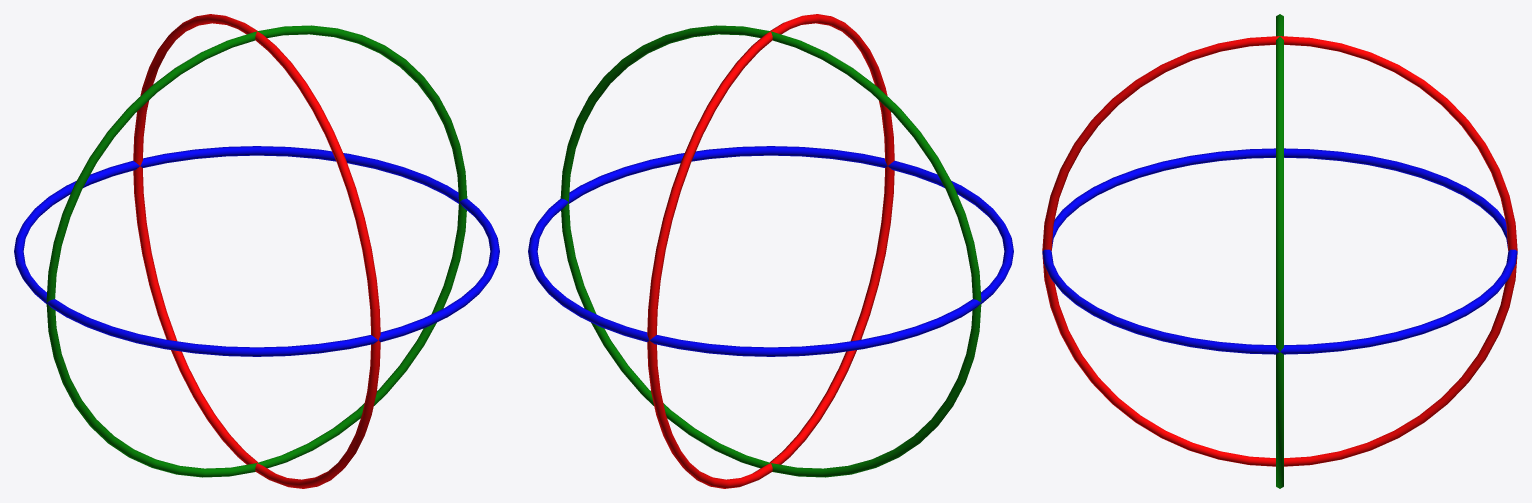
File: GizmoRotation001.DAE
3 renders of one model, left to right at view 1: azimuth 30°, elevation 25°; view 2: azimuth 150°, elevation 25°; view 3: azimuth 270°, elevation 25°, orthographic. The views are drawn at different scales.
Visible parts, largest first — view 1: torusY, torusX, torusZ; view 2: torusY, torusX, torusZ; view 3: torusX, torusZ, torusY.
Part boxes in pixels (<box>): torusY: <box>46,25,467,477</box>; torusX: <box>133,14,380,488</box>; torusZ: <box>14,146,499,356</box>; torusY: <box>560,25,981,477</box>; torusX: <box>647,14,894,488</box>; torusZ: <box>528,146,1013,356</box>; torusX: <box>1042,36,1517,466</box>; torusZ: <box>1042,148,1517,354</box>; torusY: <box>1276,14,1283,488</box>.
Bounding box in the file's own units: 2.02 × 2.02 × 2.02.
